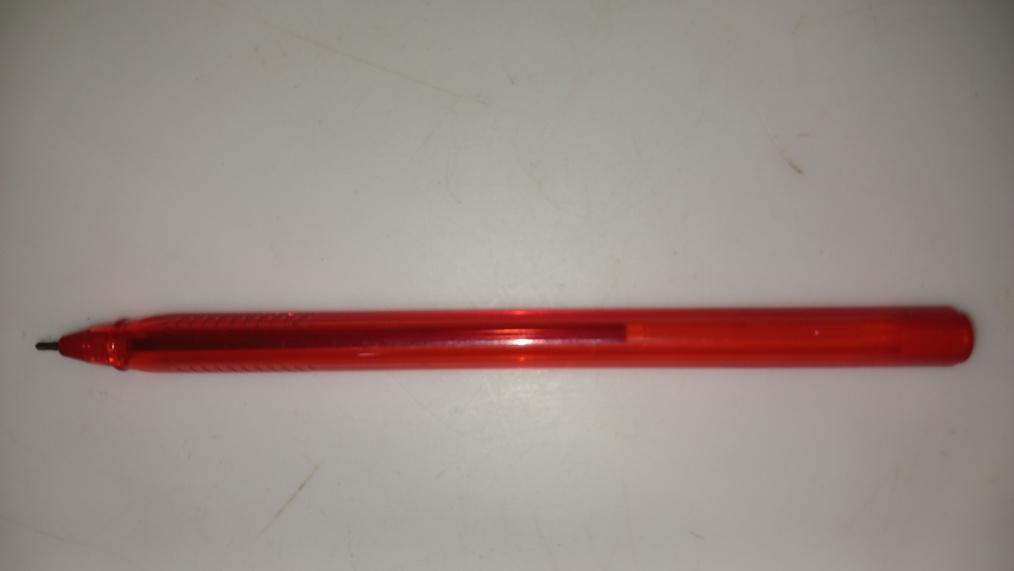pen: (30, 313, 980, 369)
